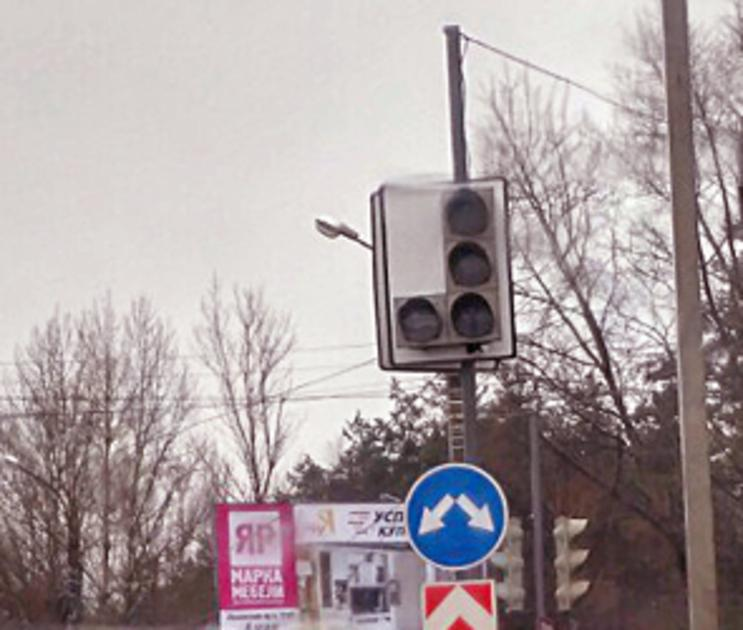obstructed_road_sign: (421, 580, 497, 630)
off traffic light: (391, 186, 503, 347), (553, 517, 592, 612)
road_sign: (405, 463, 508, 569)
